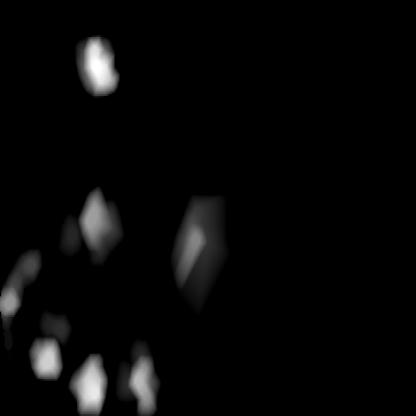fingers: (76, 34, 116, 94)
palm: (0, 249, 159, 413)
thumb: (76, 190, 223, 263)
